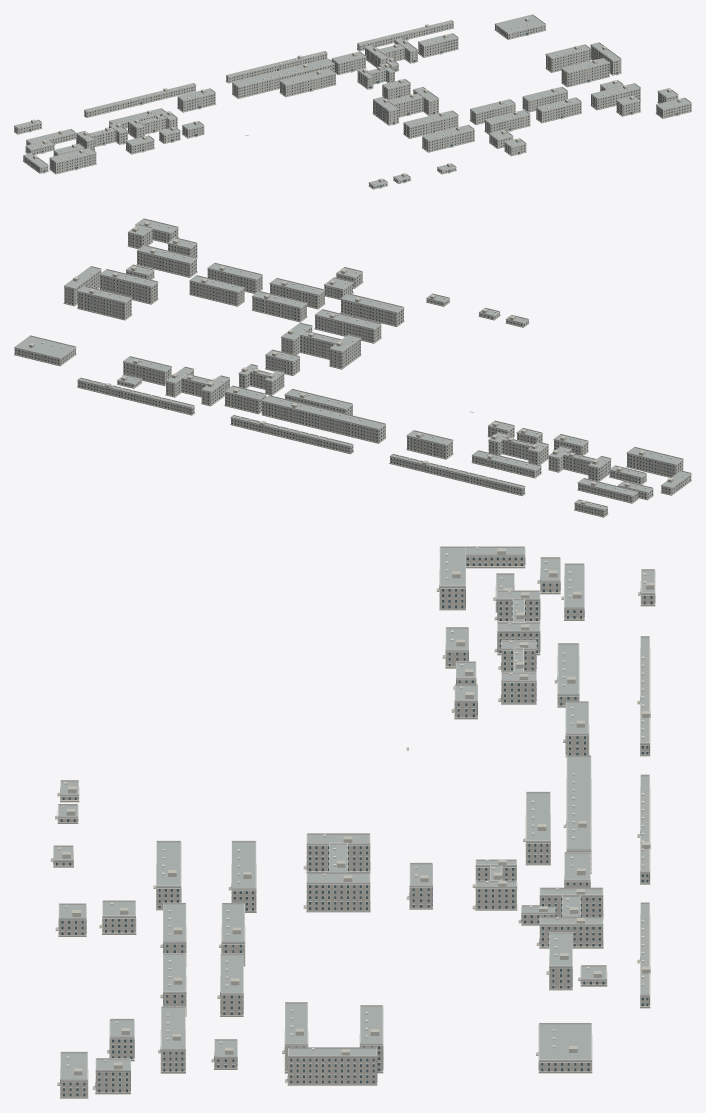
Rendered from 02-teaching4.glb.
3 views of the same model, one above another, from view 1: azimuth 30°, elevation 25°; view 2: azimuth 150°, elevation 25°; view 3: azimuth 270°, elevation 25° (orthographic). The views are drawn at different scales.
Visible parts, largest first — view 1: Weathered flat roof details.004, Window frames and coping details.004, Dark blue grey glazing details.004, Pale limestone details.004, Walkway stone details.004, Warm ivory plaster details.004, 跃进楼.001, 八号楼（研究生院）.001, 科学楼.001, 第三教学楼.001, 十一号楼（经济学院）.001, 第二教学楼.001 (+14 smaller); view 2: Weathered flat roof details.004, Window frames and coping details.004, Dark blue grey glazing details.004, Pale limestone details.004, Walkway stone details.004, Warm ivory plaster details.004, 跃进楼.001, 八号楼（研究生院）.001, 十一号楼（经济学院）.001, 第三教学楼.001, 第二教学楼.001, 0号楼（学生服务站）.001 (+10 smaller); view 3: Weathered flat roof details.004, Window frames and coping details.004, Pale limestone details.004, Dark blue grey glazing details.004, Walkway stone details.004, Warm ivory plaster details.004, 十号楼（复旦学院）.001, 生命科学楼 · 东翼.001, 生命科学楼 · 西翼.001.
Part boxes in pixels (box(x1,y1,x2,y2)): Weathered flat roof details.004: box(14, 15, 691, 186); Window frames and coping details.004: box(14, 23, 691, 188); Dark blue grey glazing details.004: box(14, 23, 690, 187); Pale limestone details.004: box(14, 14, 691, 186); Walkway stone details.004: box(14, 28, 691, 189); Warm ivory plaster details.004: box(31, 17, 682, 182); 跃进楼.001: box(232, 64, 334, 97); 八号楼（研究生院）.001: box(561, 63, 609, 86); 科学楼.001: box(280, 74, 335, 96); 第三教学楼.001: box(403, 116, 458, 137); 十一号楼（经济学院）.001: box(546, 50, 590, 71); 第二教学楼.001: box(422, 130, 474, 151); Weathered flat roof details.004: box(14, 219, 691, 510); Window frames and coping details.004: box(14, 224, 691, 516); Dark blue grey glazing details.004: box(15, 229, 690, 515); Pale limestone details.004: box(14, 218, 691, 510); Walkway stone details.004: box(14, 237, 691, 517); Warm ivory plaster details.004: box(29, 221, 673, 504); 跃进楼.001: box(262, 402, 385, 442); 八号楼（研究生院）.001: box(100, 275, 157, 303); 十一号楼（经济学院）.001: box(77, 292, 131, 318); 第三教学楼.001: box(315, 316, 381, 342); 第二教学楼.001: box(341, 300, 403, 325); 0号楼（学生服务站）.001: box(137, 252, 196, 276); Weathered flat roof details.004: box(53, 548, 655, 1081); Window frames and coping details.004: box(53, 547, 654, 1096); Pale limestone details.004: box(53, 546, 654, 1081); Dark blue grey glazing details.004: box(53, 557, 655, 1096); Walkway stone details.004: box(50, 566, 655, 1098); Warm ivory plaster details.004: box(62, 548, 654, 1075); 十号楼（复旦学院）.001: box(288, 1057, 376, 1084); 生命科学楼 · 东翼.001: box(307, 885, 369, 910); 生命科学楼 · 西翼.001: box(307, 846, 369, 870).
Size of the model in its own units: 679 by 19.15 by 322.
